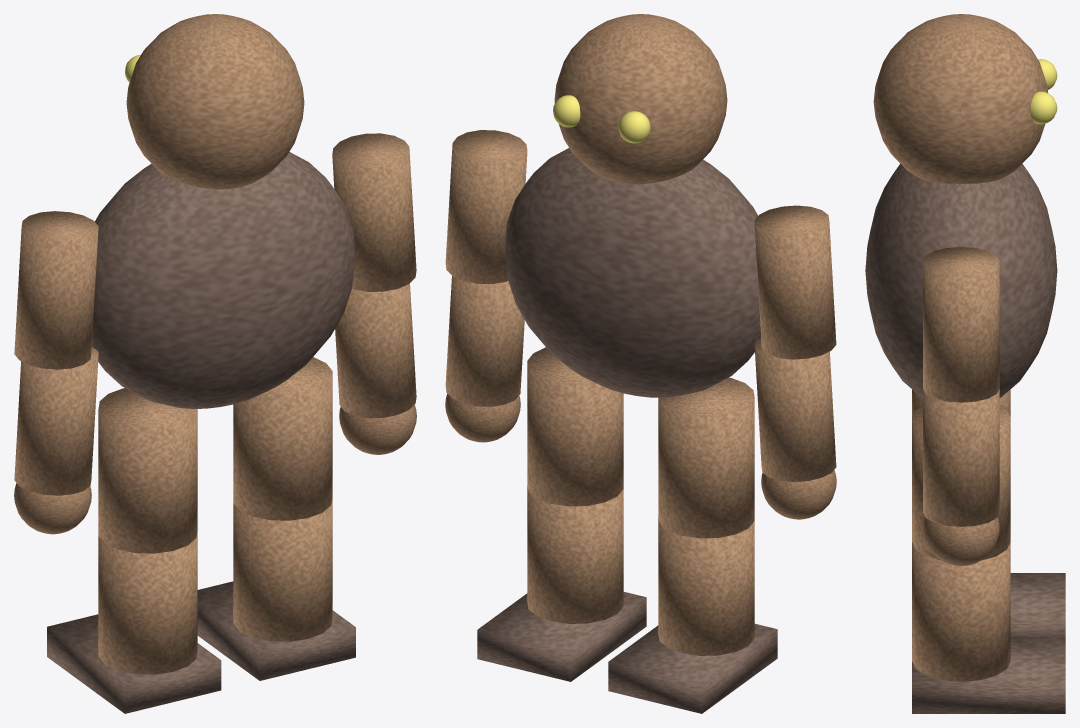
Rendered from berserker.glb.
3 renders of one model, left to right at view 1: azimuth 30°, elevation 25°; view 2: azimuth 150°, elevation 25°; view 3: azimuth 270°, elevation 25°, orthographic. The views are drawn at different scales.
Parts seen in each view (by area): view 1: Torso, Head, ThighL, ThighR, ShinR, ShinL, UpperArmL, UpperArmR, ForearmL, ForearmR, FootL, FootR (+2 smaller); view 2: Torso, Head, ThighL, ThighR, ShinR, ShinL, UpperArmL, UpperArmR, ForearmL, ForearmR, FootL, FootR (+4 smaller); view 3: Torso, Head, ShinR, UpperArmR, ForearmR, FootR, FootL, ThighR, HandR, Eye.001, ThighL, Eye.
Part boxes in pixels (x1=…): Torso: x1=92, y1=152, x2=355, y2=408; Head: x1=126, y1=14, x2=304, y2=189; ThighL: x1=98, y1=388, x2=197, y2=553; ThighR: x1=233, y1=357, x2=332, y2=520; ShinR: x1=233, y1=497, x2=332, y2=641; ShinL: x1=98, y1=531, x2=197, y2=674; UpperArmL: x1=14, y1=211, x2=98, y2=369; UpperArmR: x1=332, y1=133, x2=416, y2=291; ForearmL: x1=14, y1=347, x2=98, y2=495; ForearmR: x1=335, y1=283, x2=416, y2=418; FootL: x1=47, y1=614, x2=221, y2=713; FootR: x1=197, y1=581, x2=355, y2=680; Torso: x1=504, y1=148, x2=760, y2=397; Head: x1=554, y1=14, x2=727, y2=184; ThighL: x1=658, y1=377, x2=754, y2=538; ThighR: x1=527, y1=347, x2=623, y2=506; ShinR: x1=527, y1=485, x2=623, y2=623; ShinL: x1=658, y1=517, x2=754, y2=655; UpperArmL: x1=754, y1=205, x2=836, y2=359; UpperArmR: x1=445, y1=130, x2=527, y2=283; ForearmL: x1=754, y1=338, x2=836, y2=481; ForearmR: x1=445, y1=276, x2=524, y2=406; FootL: x1=608, y1=623, x2=777, y2=713; FootR: x1=477, y1=592, x2=646, y2=681; Torso: x1=865, y1=163, x2=1057, y2=397; Head: x1=873, y1=14, x2=1047, y2=183; ShinR: x1=912, y1=542, x2=1010, y2=681; UpperArmR: x1=923, y1=247, x2=999, y2=402; ForearmR: x1=923, y1=389, x2=999, y2=526; FootR: x1=912, y1=637, x2=1065, y2=713; FootL: x1=1010, y1=573, x2=1065, y2=637; ThighR: x1=912, y1=405, x2=1010, y2=560; HandR: x1=923, y1=517, x2=999, y2=566; Eye.001: x1=1030, y1=91, x2=1057, y2=124; ThighL: x1=912, y1=389, x2=1010, y2=416; Eye: x1=1038, y1=59, x2=1057, y2=89.
Size of the model in its own units: 0.6367 by 1 by 0.2852.
Materials: 3 (2 with a texture image).
